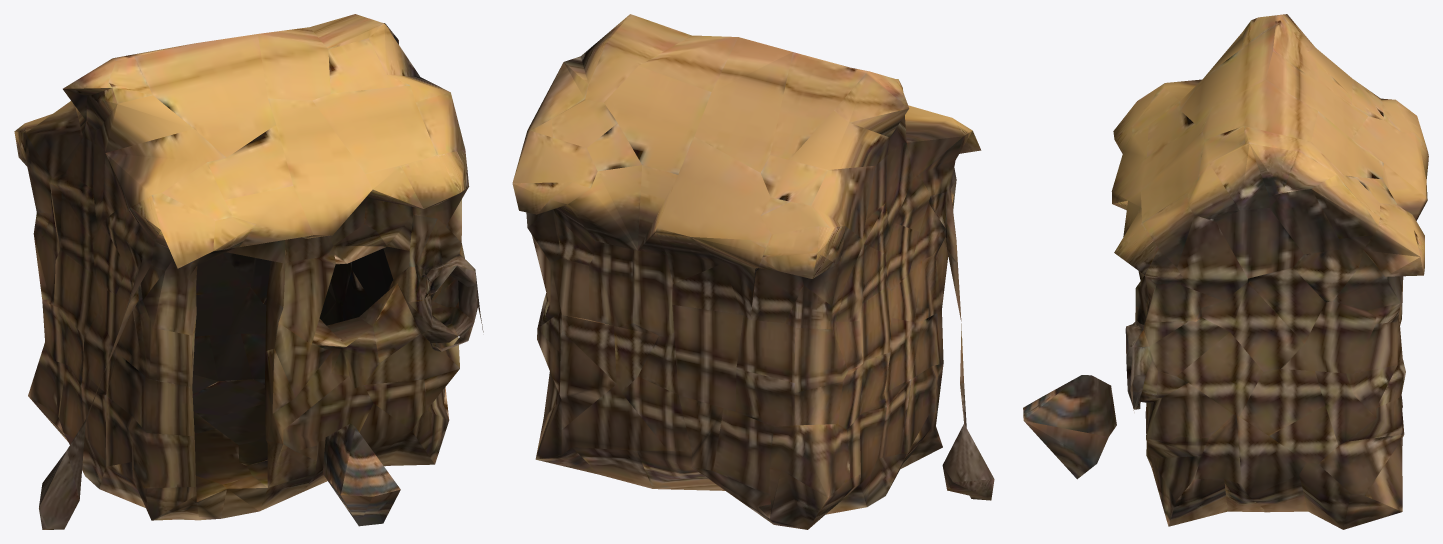
Rendered from poi_hut.glb.
3 renders of one model, left to right at view 1: azimuth 30°, elevation 25°; view 2: azimuth 150°, elevation 25°; view 3: azimuth 270°, elevation 25°, orthographic. The views are drawn at different scales.
Parts seen in each view (by area): view 1: Hut; view 2: Hut; view 3: Hut.
Boxes of the visible parts, box(x1,y1,x2,y2) form: Hut: box(14, 14, 483, 529); Hut: box(512, 14, 994, 529); Hut: box(1023, 14, 1428, 529).
Size of the model in its own units: 1.79 by 1.87 by 1.72.
Materials: 1 (1 with a texture image).
